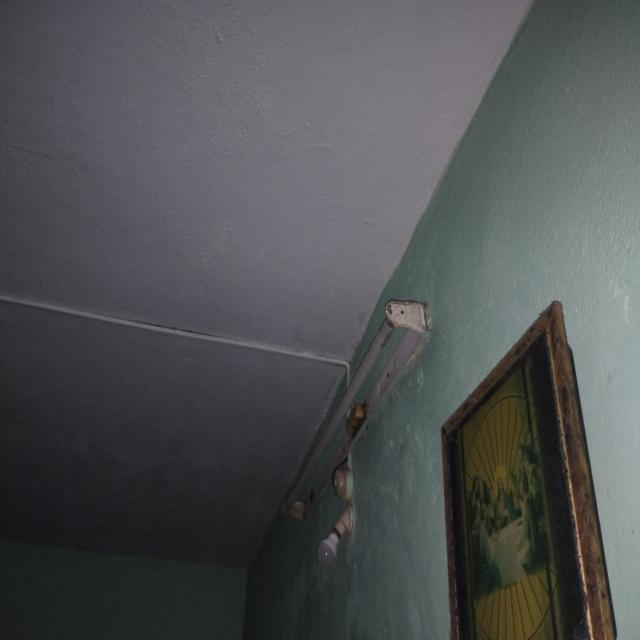tubelight_off: (274, 283, 444, 522)
